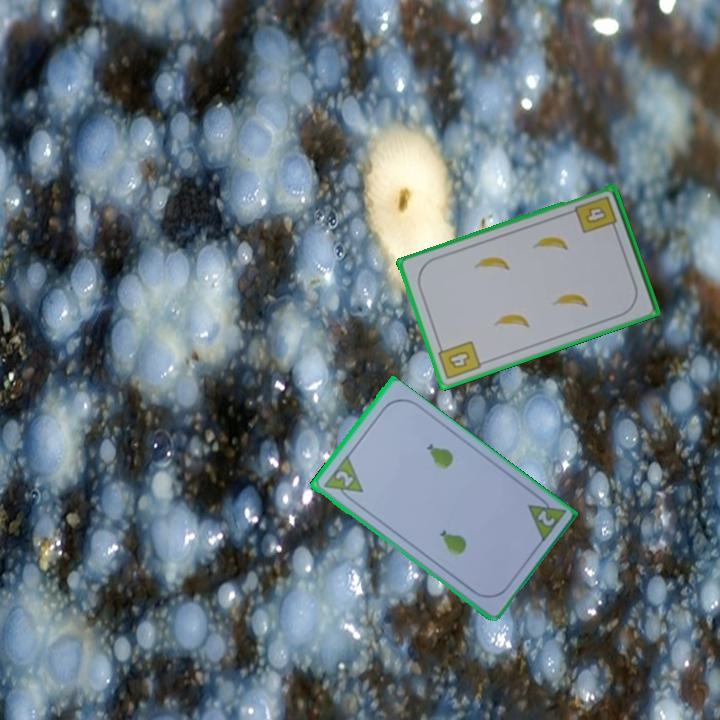2p: (331, 467, 356, 490), (533, 507, 558, 529)
4b: (434, 337, 484, 383), (571, 192, 620, 237)
